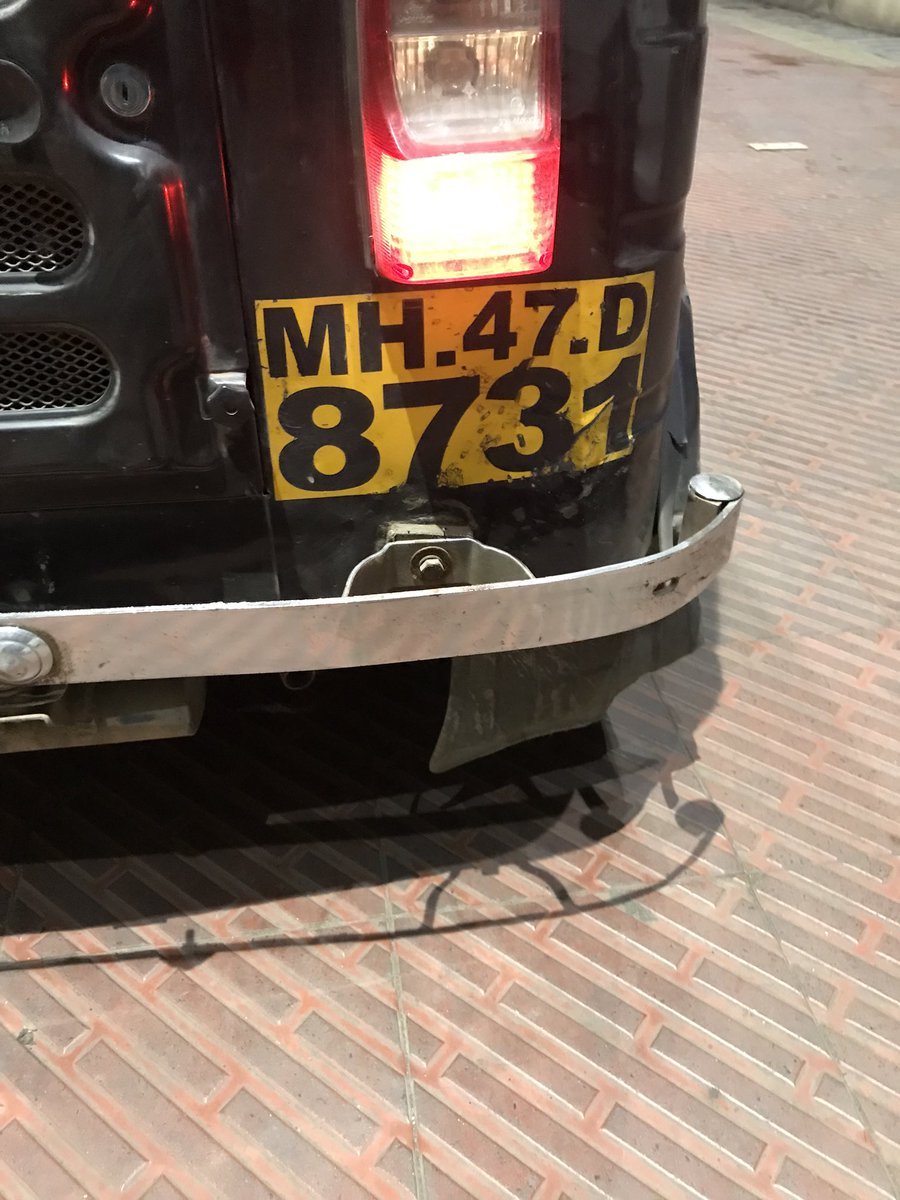doublelinenumberplate: (246, 269, 661, 505)
